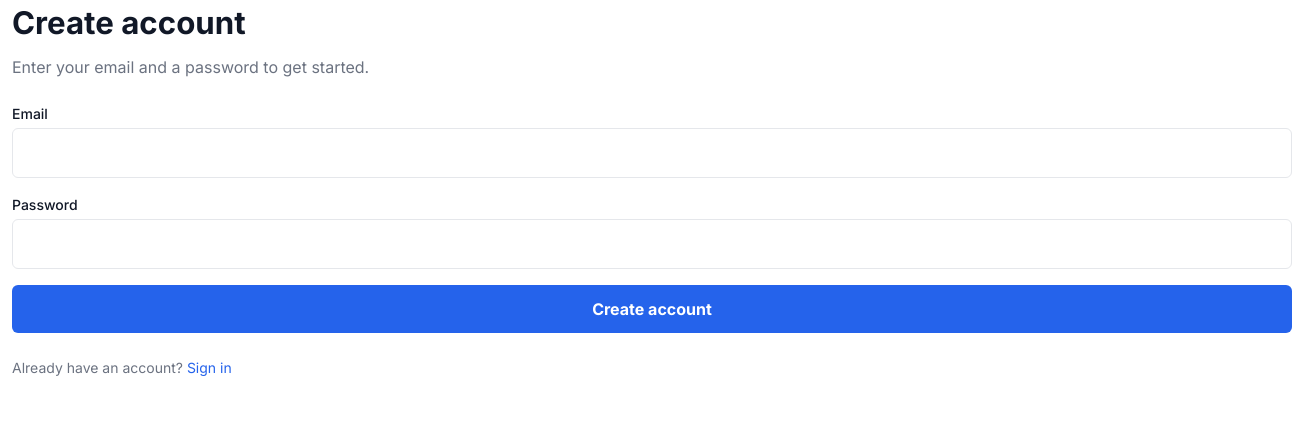
Scenario: SignUpForm › shows an error and does not navigate when a network error is thrown
In the field labelled "Email": (652, 153) [12,128,1292,178], type "new@b.com"
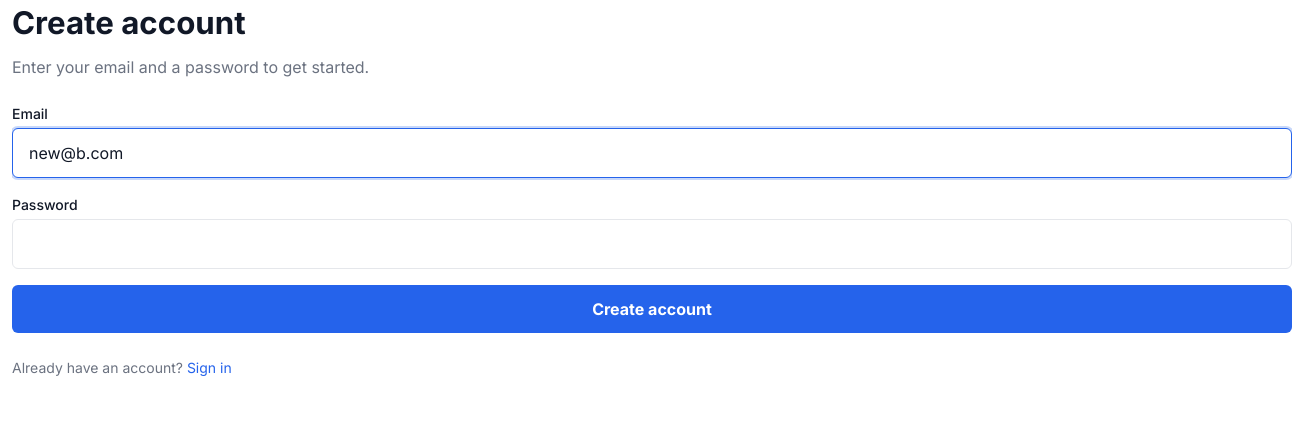
In the password field labelled "Password": (652, 244) [12,219,1292,269], type "secret123"
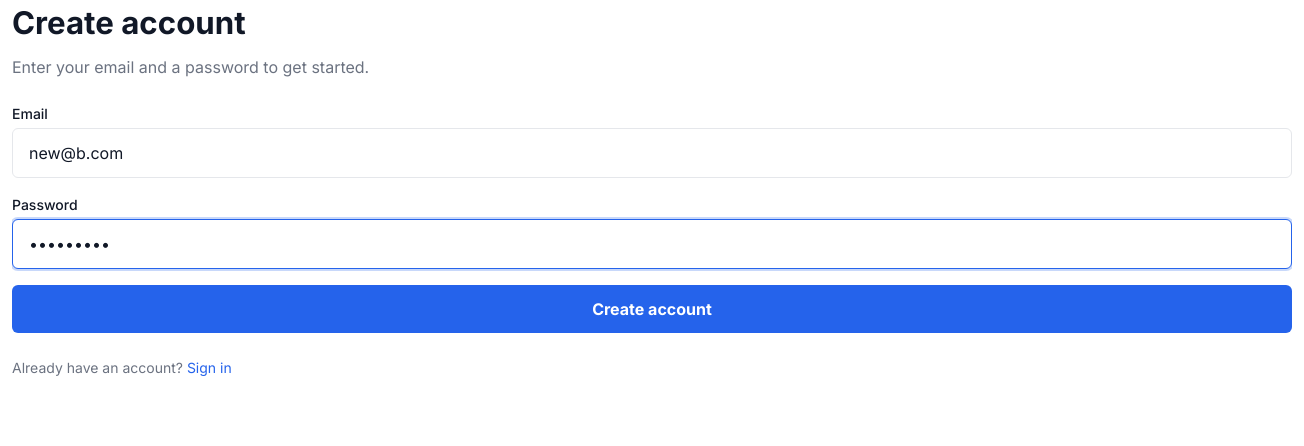
Click the button "Create account": (652, 309) [12,285,1292,333]
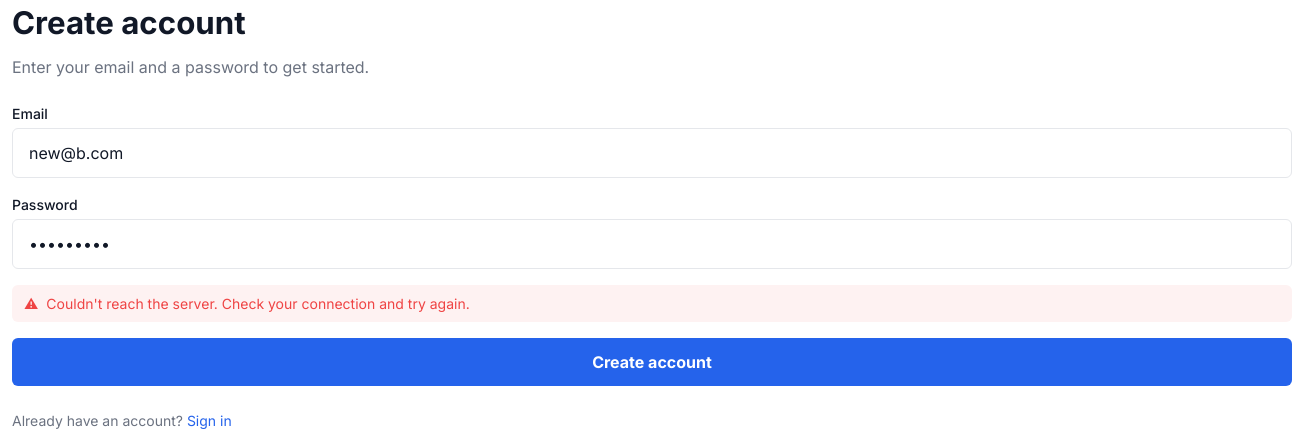
Expected: the message shows "connection", [46,295,470,312]
